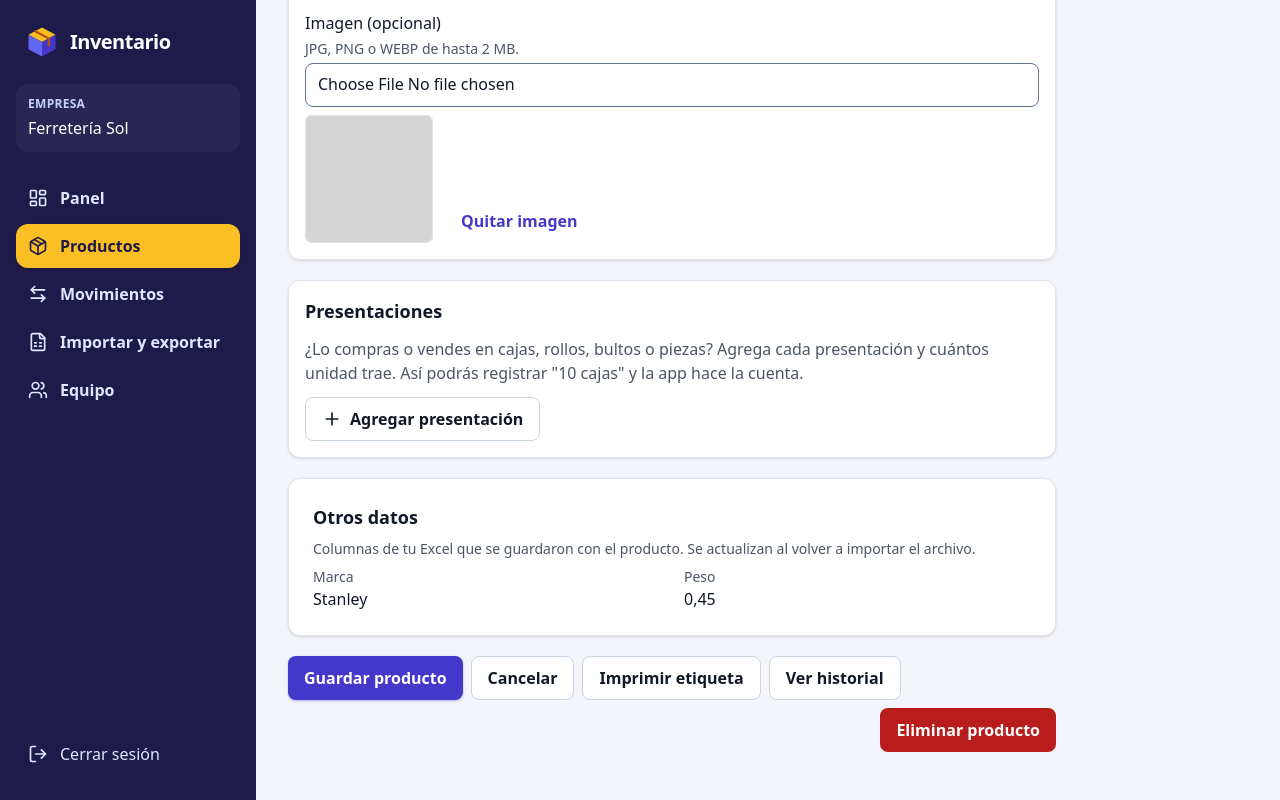
Scenario: Formulario de producto › al editar, el stock no se cambia en el formulario sino con movimientos
(page scrolled)
Step 1. Click the button "Guardar producto" → [375, 678], box [288, 656, 463, 700]
(page scrolled)
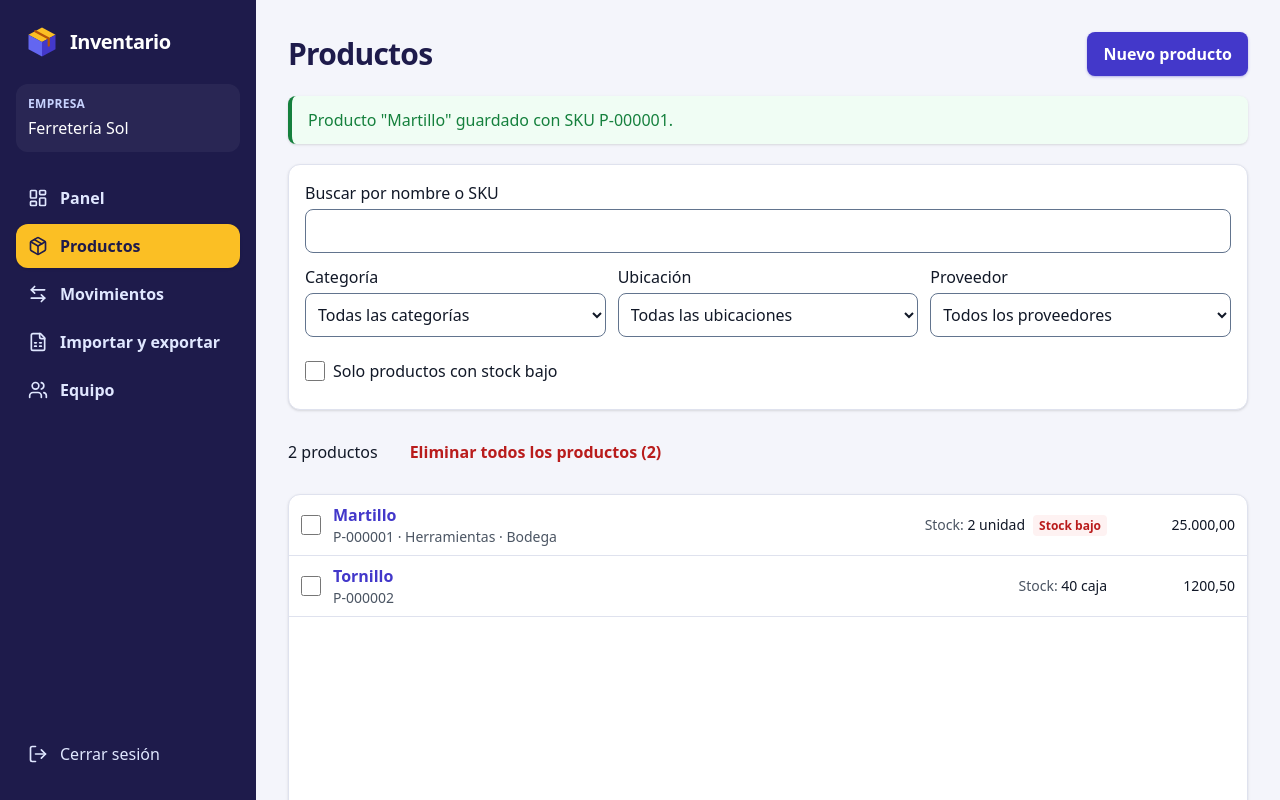
Now the text "Producto \"Martillo\" guardado con SKU P-000001." is shown, box [288, 96, 1248, 144]
